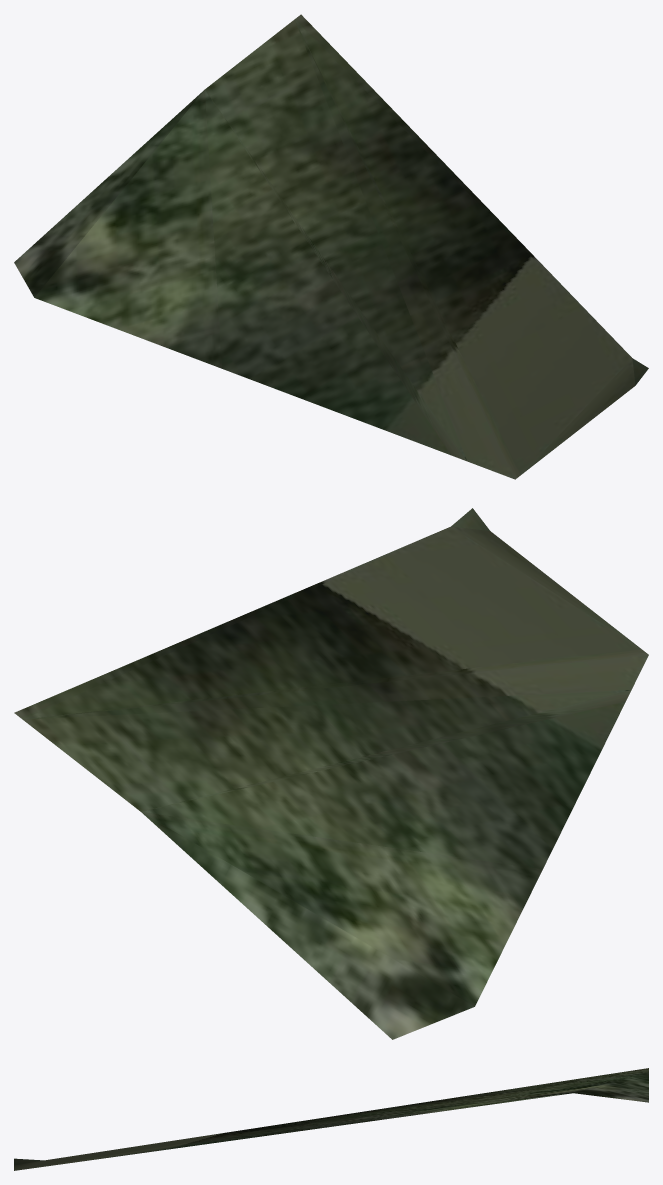
3 renders of one model, top to bottom at view 1: azimuth 30°, elevation 25°; view 2: azimuth 150°, elevation 25°; view 3: azimuth 270°, elevation 25°, orthographic. The views are drawn at different scales.
Size of the model in its own units: 1.51 by 0.8327 by 2.95.
Materials: 1 (1 with a texture image).
